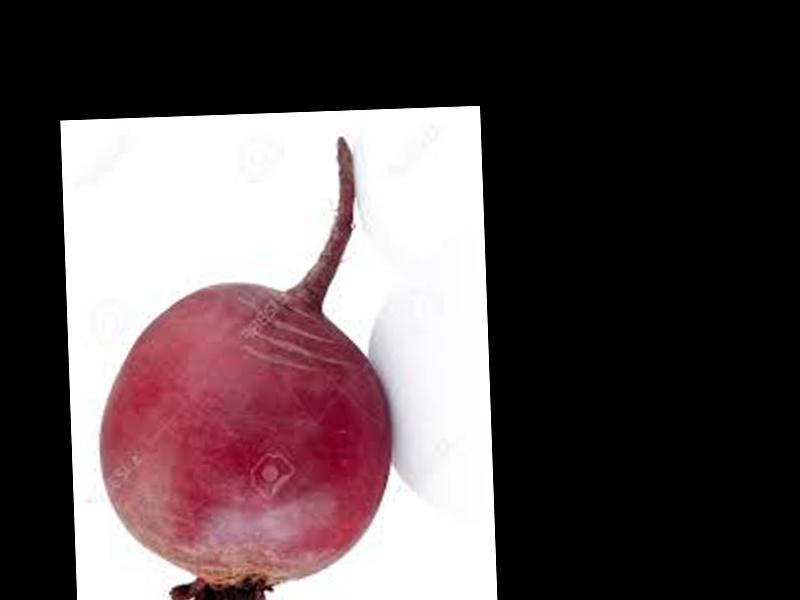Beet: (91, 135, 398, 600)
